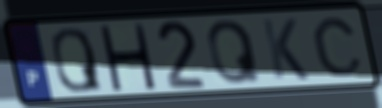2: (156, 18, 207, 90)
C: (310, 16, 366, 79)
H: (96, 22, 158, 91)
K: (259, 17, 312, 82)
Q: (205, 18, 263, 87), (49, 26, 105, 95)
